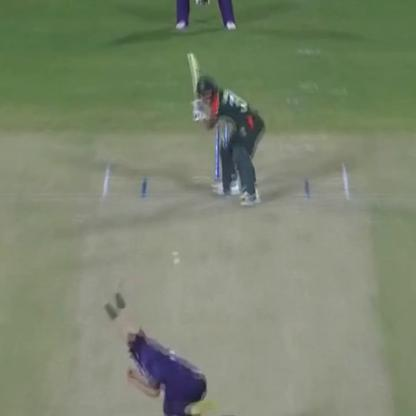ball: (167, 252, 185, 268)
bat: (181, 42, 211, 118)
pitch: (76, 163, 384, 415)
